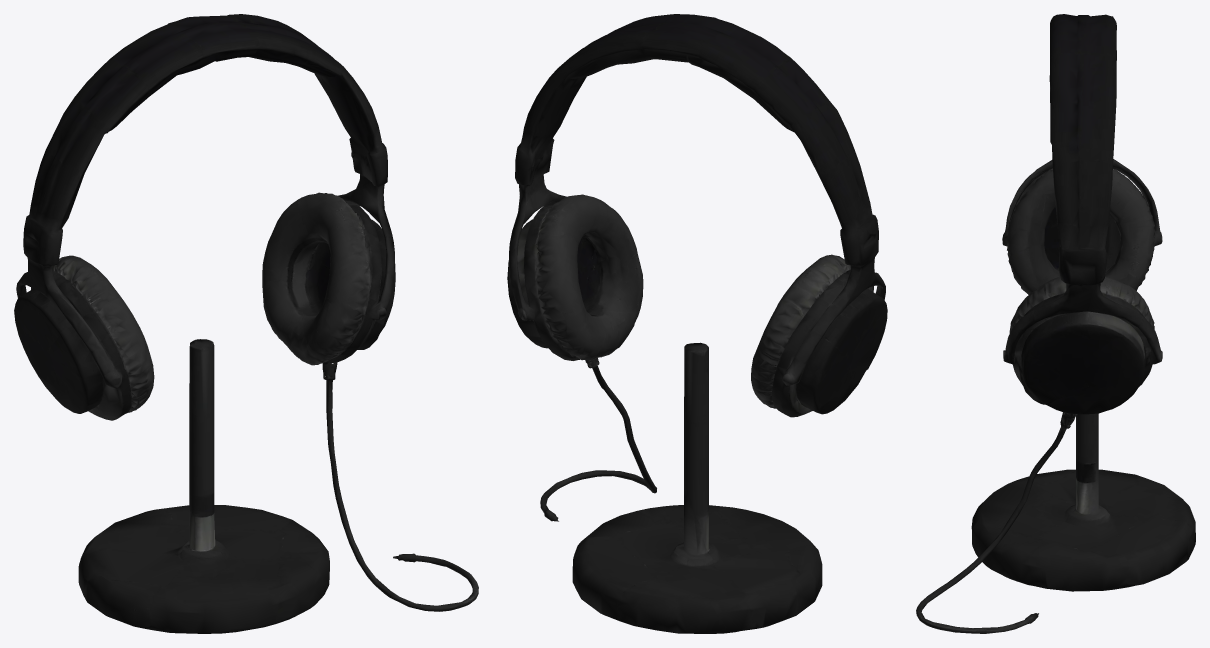
3 views of the same model, side by side, from view 1: azimuth 30°, elevation 25°; view 2: azimuth 150°, elevation 25°; view 3: azimuth 270°, elevation 25° (orthographic). The views are drawn at different scales.
Bounding box in the file's own units: 1.35 × 1.9 × 0.9373.
1 material, 1 textured.
